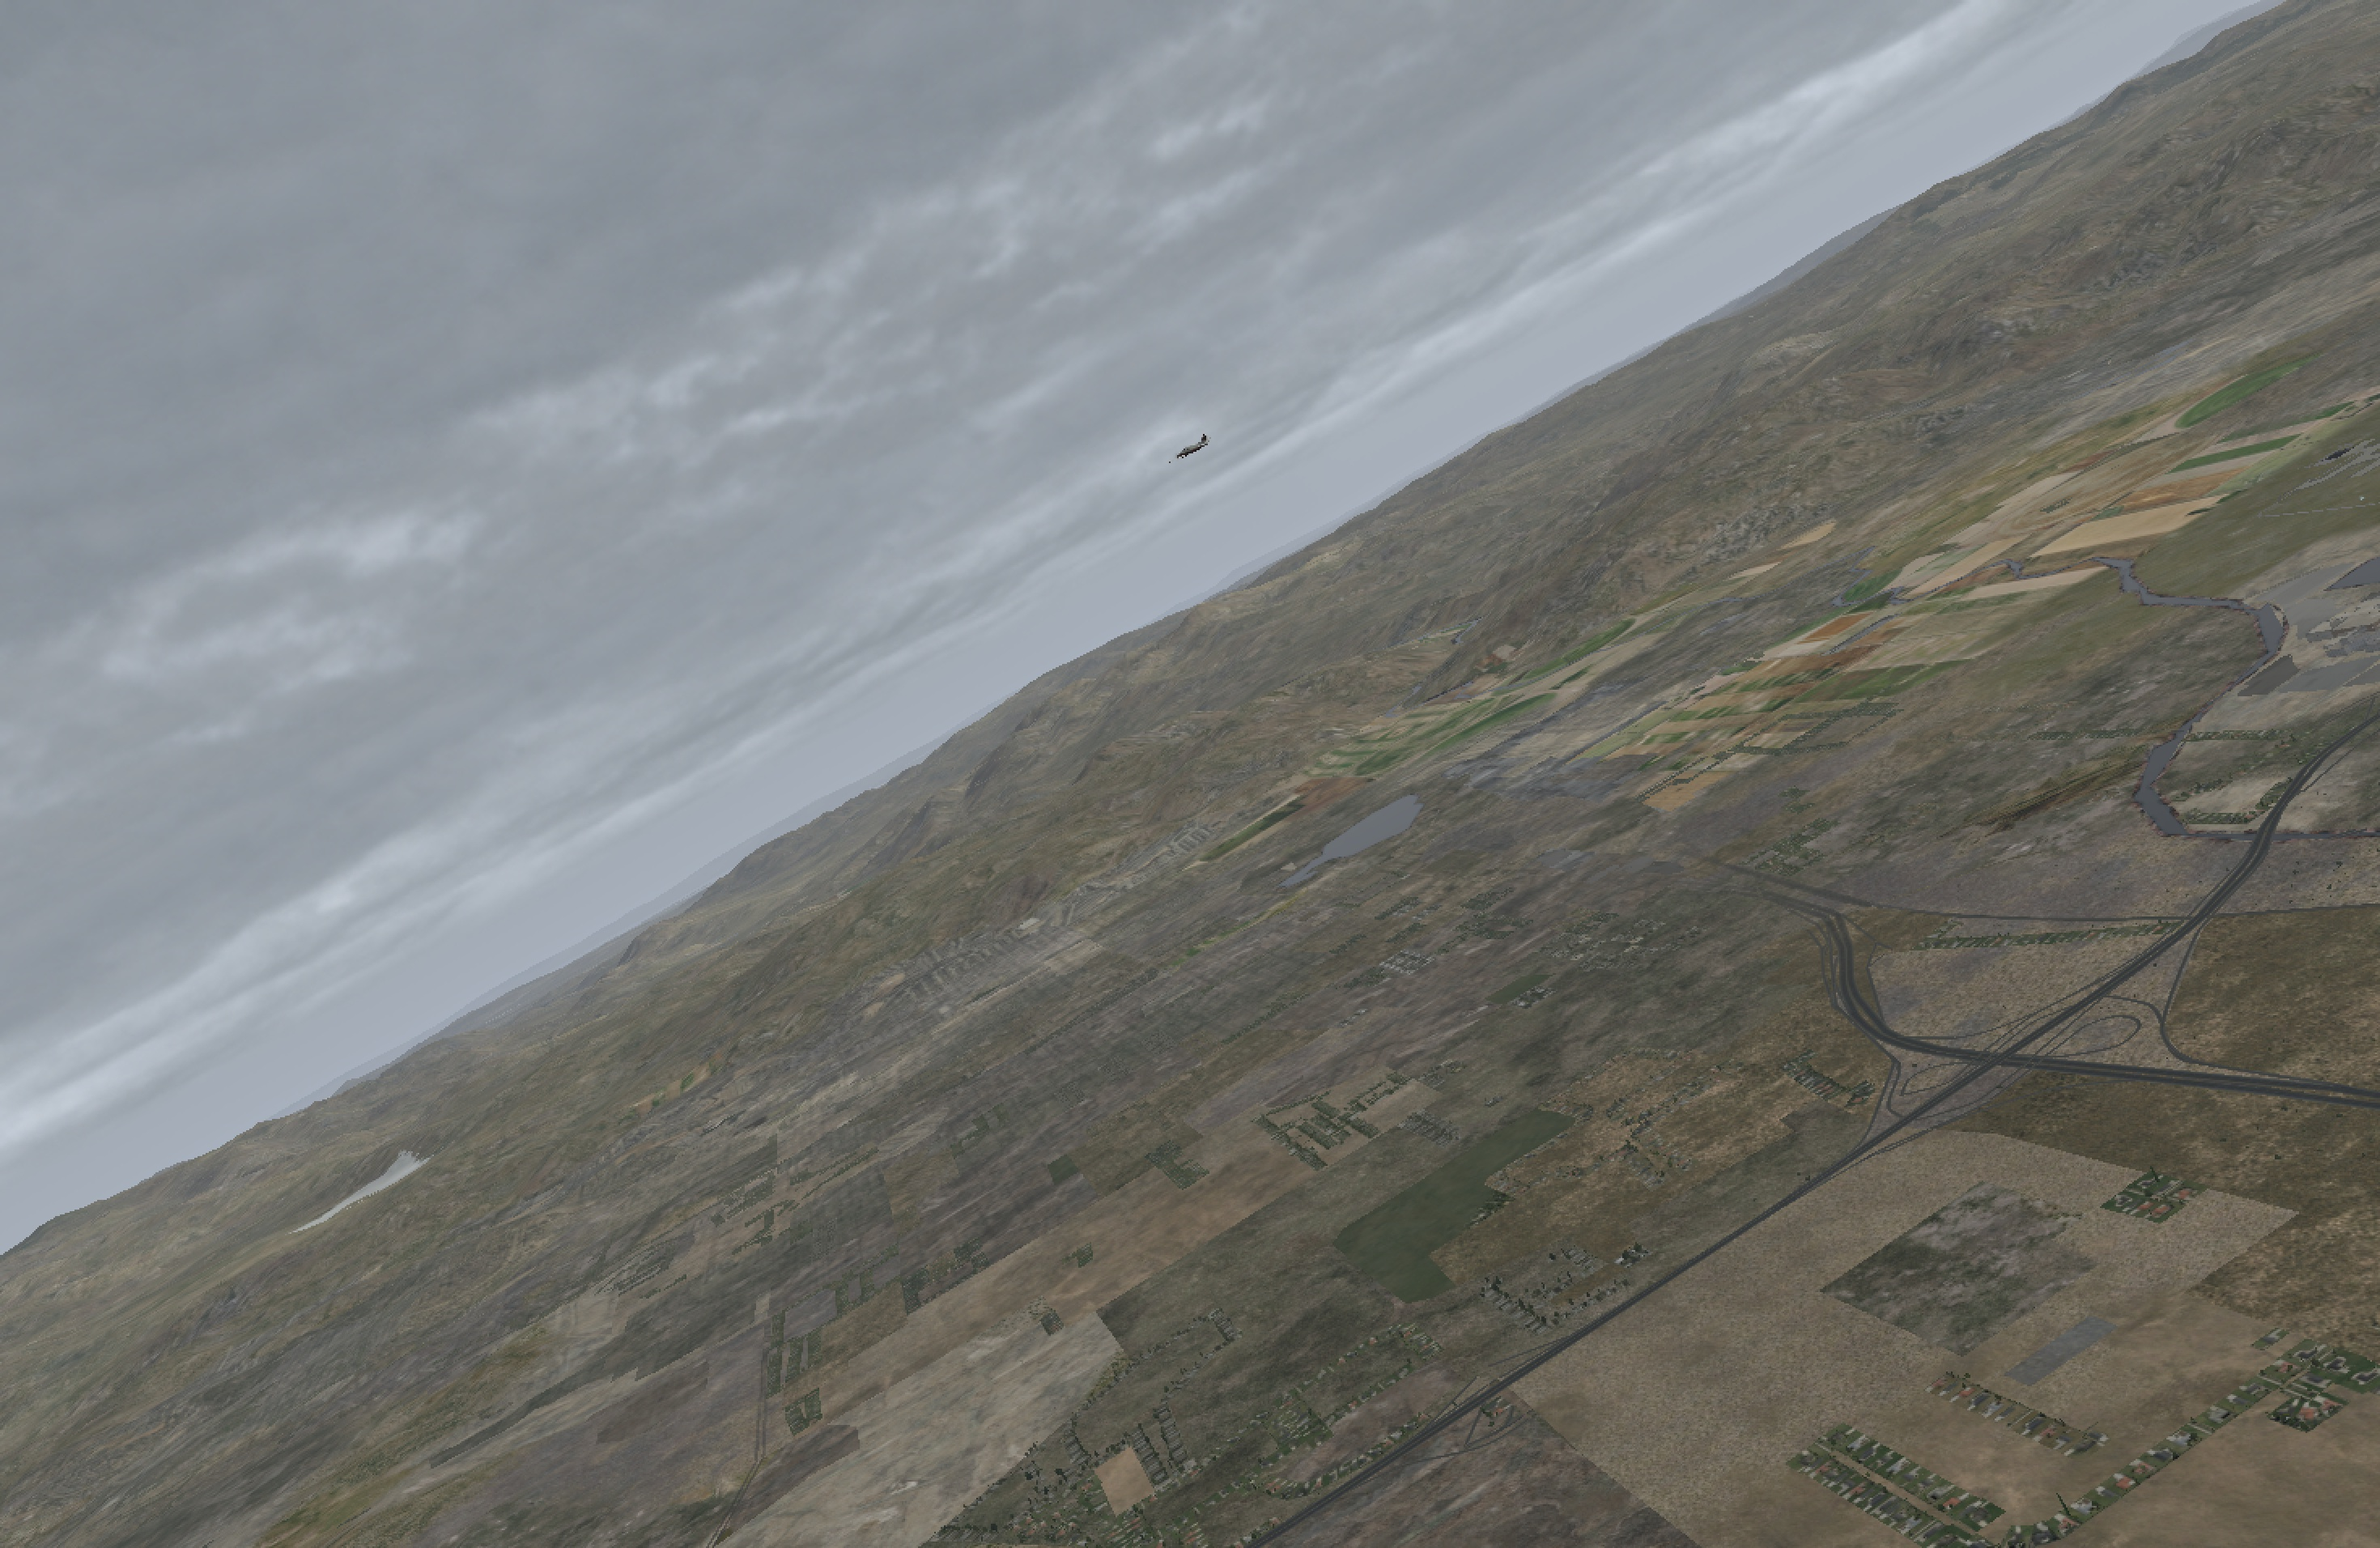aircraft: (1157, 441, 1221, 465)
